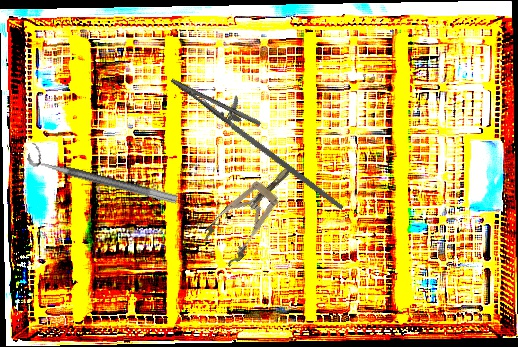Fixation Ring: (25, 142, 182, 205)
Needle Holder: (157, 63, 365, 211)
Speculum: (197, 154, 307, 270)
